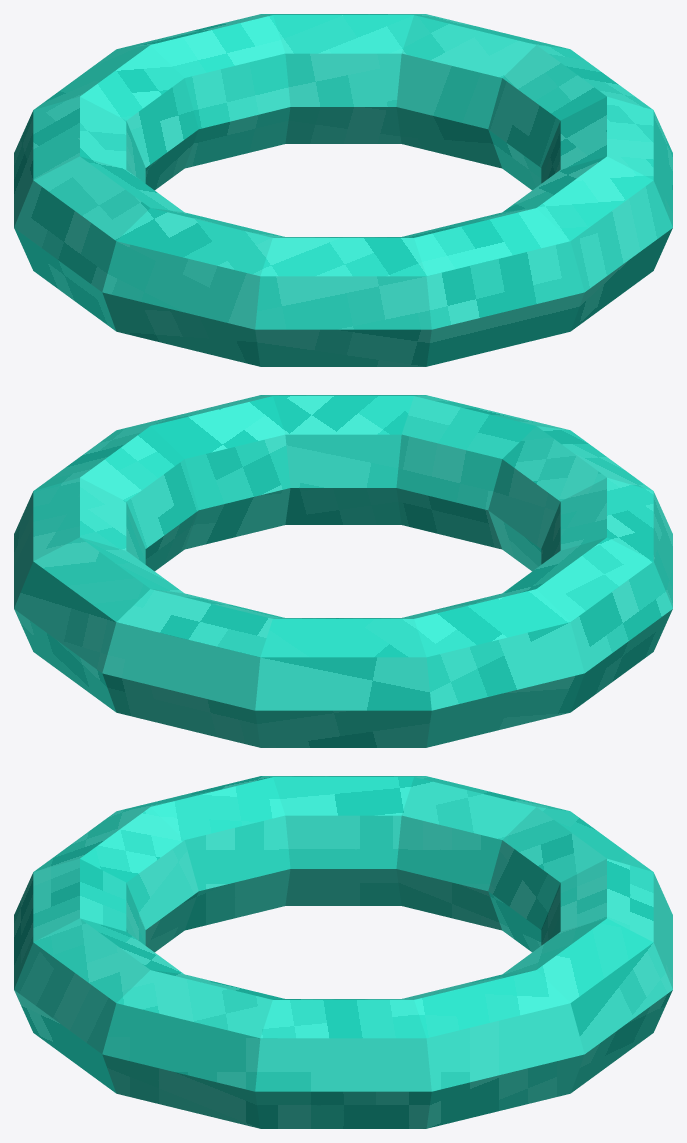
Rendered from pickupDonut.fbx.
3 renders of one model, top to bottom at view 1: azimuth 30°, elevation 25°; view 2: azimuth 150°, elevation 25°; view 3: azimuth 270°, elevation 25°, orthographic.
Visible parts, largest first — view 1: torus; view 2: torus; view 3: torus.
Boxes of the visible parts, x1,y1,x2,y2 form: torus: (14, 14, 672, 366); torus: (14, 395, 672, 747); torus: (14, 776, 672, 1128).
Size of the model in its own units: 43.75 by 9.38 by 43.75.
Materials: 1 (1 with a texture image).
